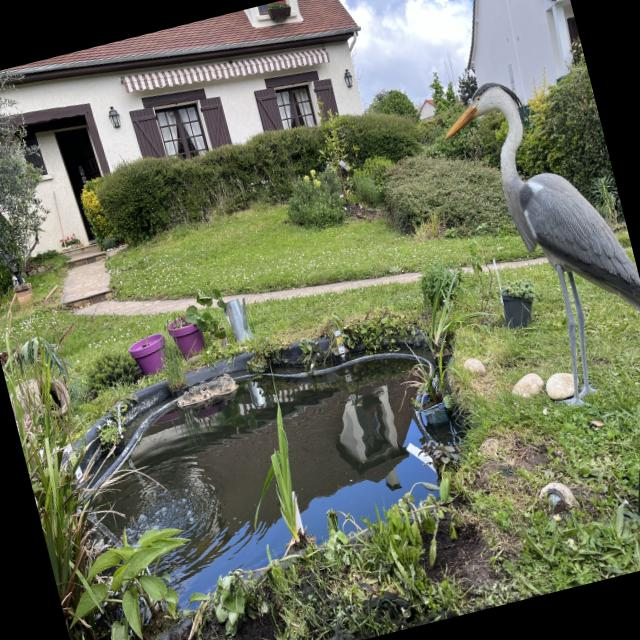Heron: (421, 41, 640, 450)
